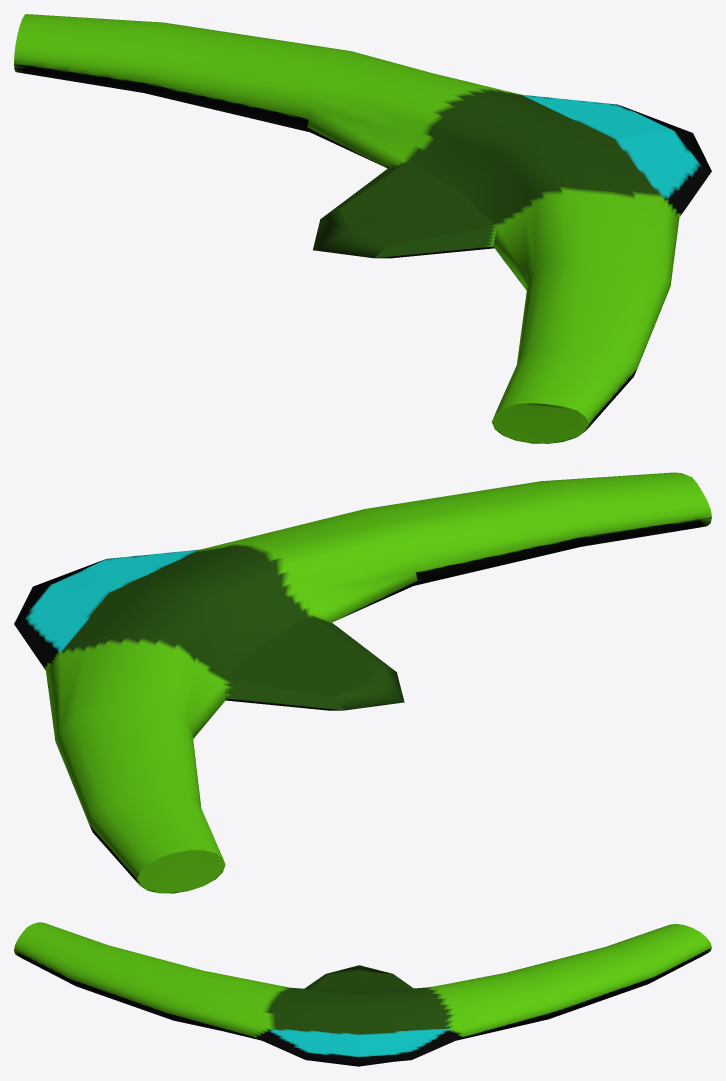
File: mini ship texture 3.FBX
The picture shows the model from 3 angles, top to bottom: view 1: azimuth 30°, elevation 25°; view 2: azimuth 150°, elevation 25°; view 3: azimuth 270°, elevation 25°; orthographic projection. The views are drawn at different scales.
Parts seen in each view (by area): view 1: Cylinder001; view 2: Cylinder001; view 3: Cylinder001.
Boxes of the visible parts, x1,y1,x2,y2 form: Cylinder001: (14,14,711,443); Cylinder001: (14,472,711,893); Cylinder001: (14,922,711,1066).
Bounding box in the file's own units: 42.37 × 5.94 × 90.51.
Materials: 1 (1 with a texture image).
